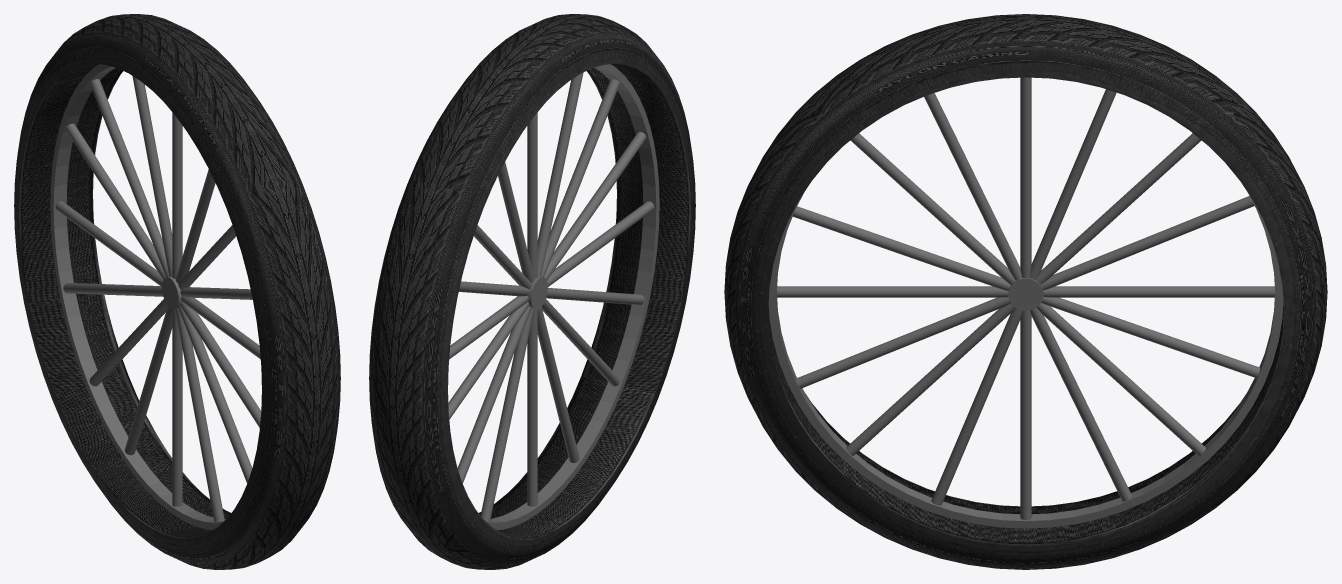
The model's file is RuedaBici.fbx.
The picture shows the model from 3 angles, left to right: view 1: azimuth 30°, elevation 25°; view 2: azimuth 150°, elevation 25°; view 3: azimuth 270°, elevation 25°; orthographic projection. The views are drawn at different scales.
Visible parts, largest first — view 1: Neumatico.003; view 2: Neumatico.003; view 3: Neumatico.003.
Boxes of the visible parts, left/top/right/bottom form: Neumatico.003: left=14, top=14, right=340, bottom=569; Neumatico.003: left=369, top=14, right=695, bottom=569; Neumatico.003: left=724, top=14, right=1327, bottom=569.
Bounding box in the file's own units: 5.55 × 37.02 × 37.02.
Materials: 2 (1 with a texture image).
